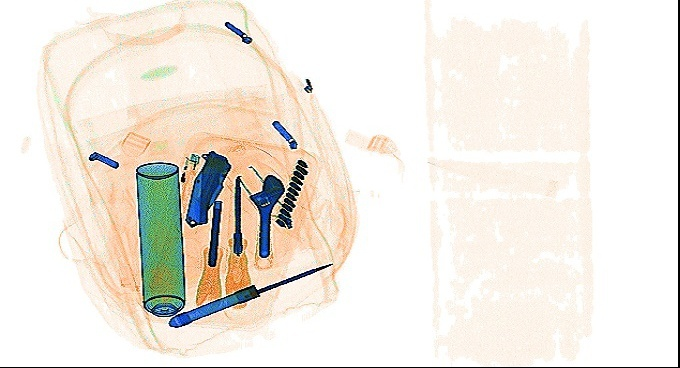knife: (176, 148, 233, 230)
lighter: (175, 150, 201, 214)
pressure: (134, 157, 191, 319)
